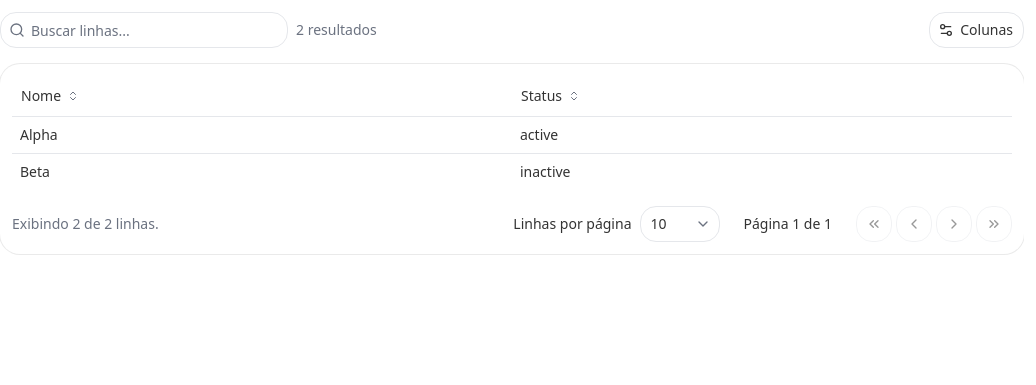
Scenario: DataTable › renders rows and recovers from a filtered empty state
Expected: the text "Alpha" is shown, [20, 124, 58, 144]
Expected: the text "Beta" is shown, [20, 162, 50, 180]
Type "missing" into the field labelled "Buscar linhas..." at (156, 30), box [25, 12, 287, 48]
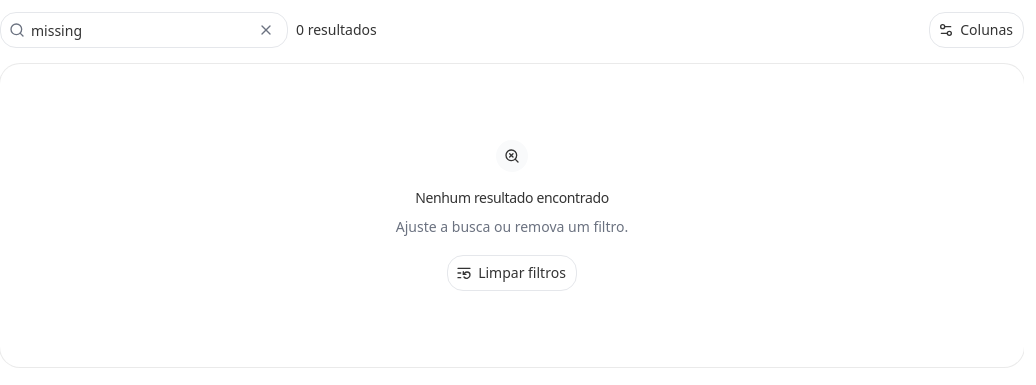
Now the text "Nenhum resultado encontrado" is shown, box [415, 188, 609, 208]
Now the table is gone
Now the message "0 resultados" is shown, box [296, 20, 377, 40]
Click the button "Limpar filtros" at (512, 273), box [447, 255, 577, 291]
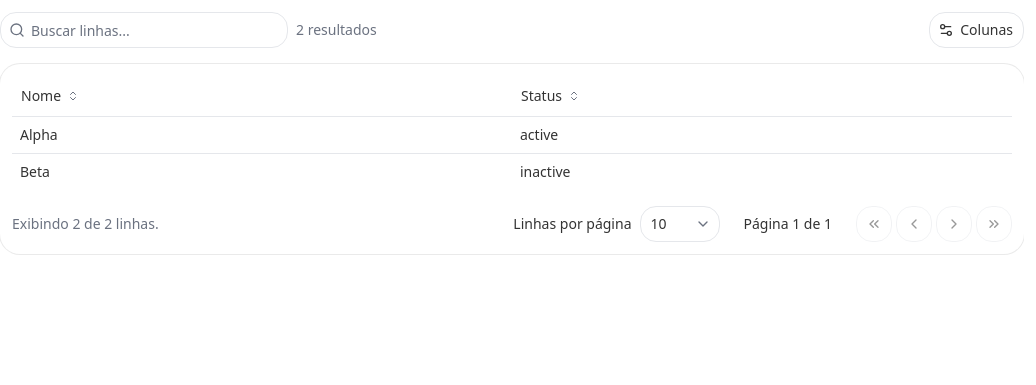
Now the text "Alpha" is shown, box [20, 124, 58, 144]
Now the text "Beta" is shown, box [20, 162, 50, 180]
Now the message "2 resultados" is shown, box [296, 20, 377, 40]
